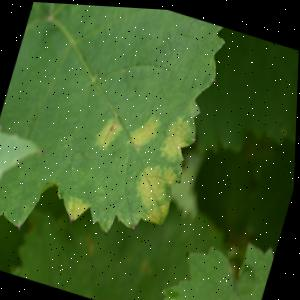Folha: (0, 0, 231, 277)
Fungo: (127, 155, 182, 226), (126, 107, 164, 152), (94, 111, 125, 152), (57, 193, 91, 225), (103, 118, 120, 147), (46, 12, 55, 22), (111, 120, 119, 131), (131, 221, 138, 230), (18, 220, 24, 230), (212, 73, 217, 80)
